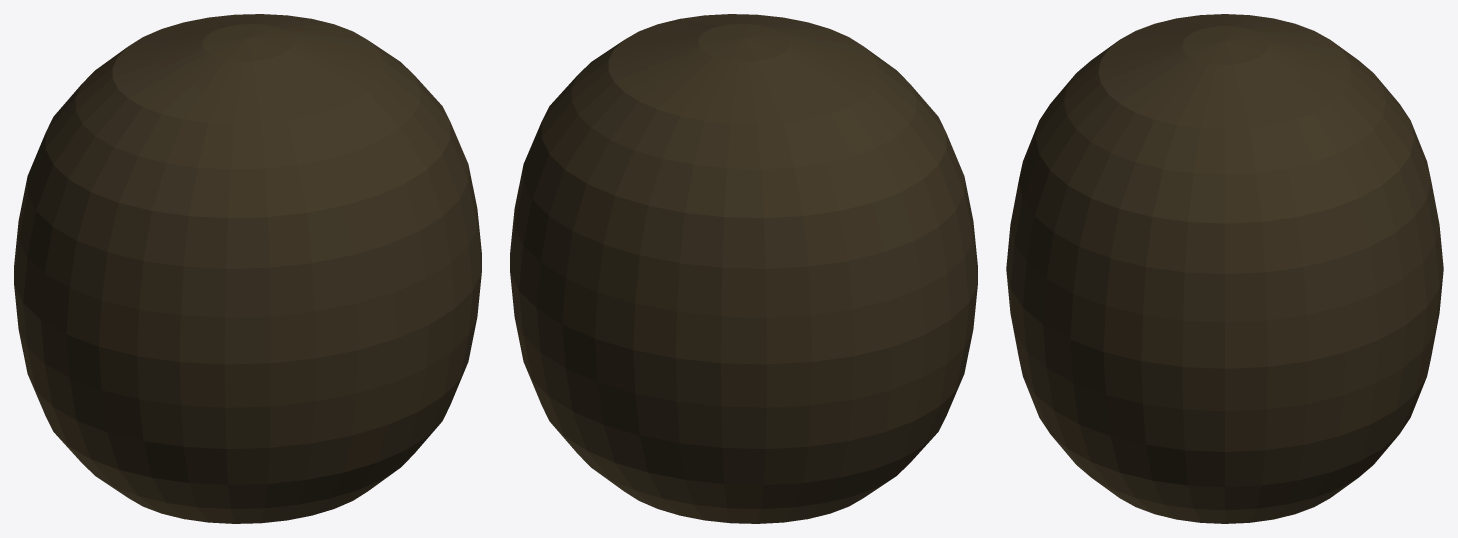
Rendered from poopHapalemurGriseus.fbx.
3 renders of one model, left to right at view 1: azimuth 30°, elevation 25°; view 2: azimuth 150°, elevation 25°; view 3: azimuth 270°, elevation 25°, orthographic.
Visible parts, largest first — view 1: bambooLemurPoop; view 2: bambooLemurPoop; view 3: bambooLemurPoop.
Part boxes in pixels (bbox=[...]): bambooLemurPoop: bbox=[14, 14, 481, 523]; bambooLemurPoop: bbox=[510, 14, 977, 523]; bambooLemurPoop: bbox=[1006, 14, 1443, 523].
Size of the model in its own units: 1.88 by 2 by 1.74.
